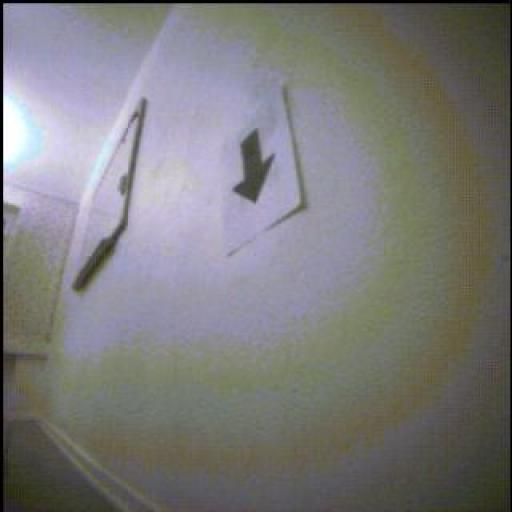arrow: (235, 131, 276, 204)
